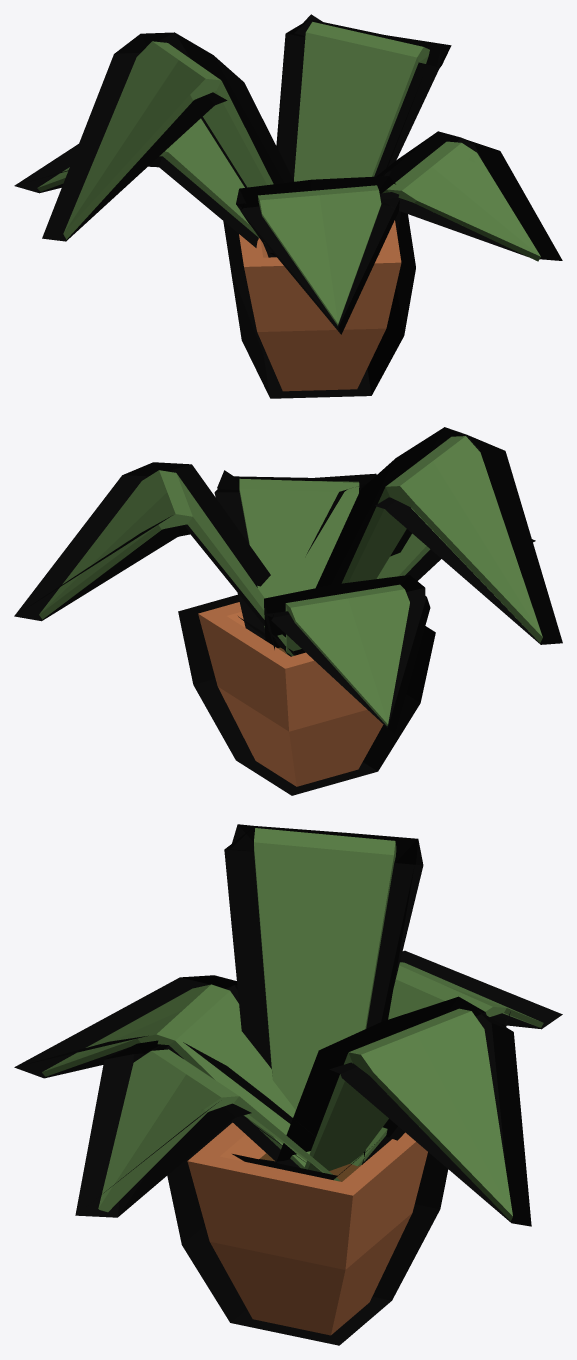
Rendered from 26 Potted Plant_2.fbx.
3 renders of one model, top to bottom at view 1: azimuth 30°, elevation 25°; view 2: azimuth 150°, elevation 25°; view 3: azimuth 270°, elevation 25°, orthographic. The views are drawn at different scales.
Parts seen in each view (by area): view 1: Island.001; view 2: Island.001; view 3: Island.001.
Part boxes in pixels (x1,y1,x2,y2): Island.001: (14, 14, 562, 398); Island.001: (14, 427, 562, 795); Island.001: (14, 824, 562, 1345).
Bounding box in the file's own units: 540 × 386 × 470.
